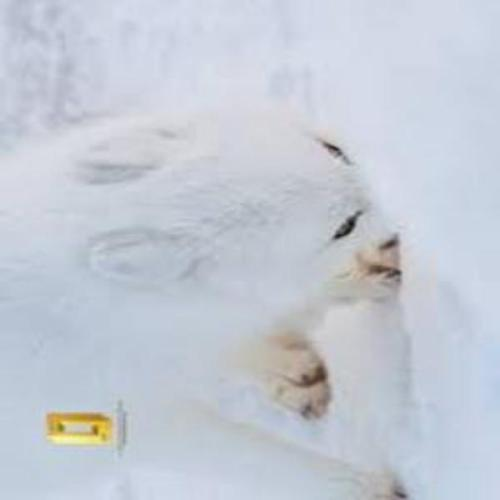arctic_fox-endangered: (0, 106, 402, 496)
